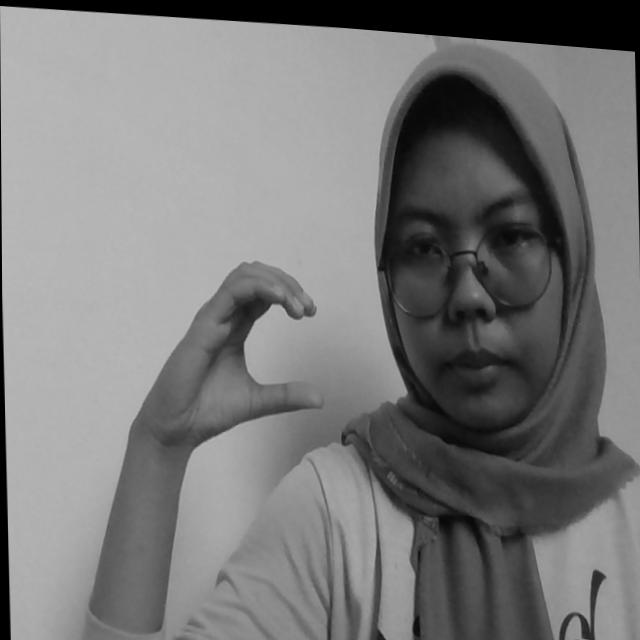C: (141, 242, 326, 441)
